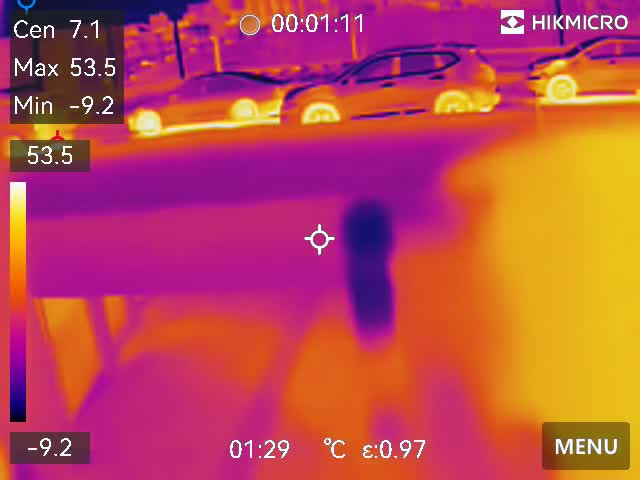largeCar: (276, 46, 505, 126)
smallCar: (122, 60, 291, 128)
